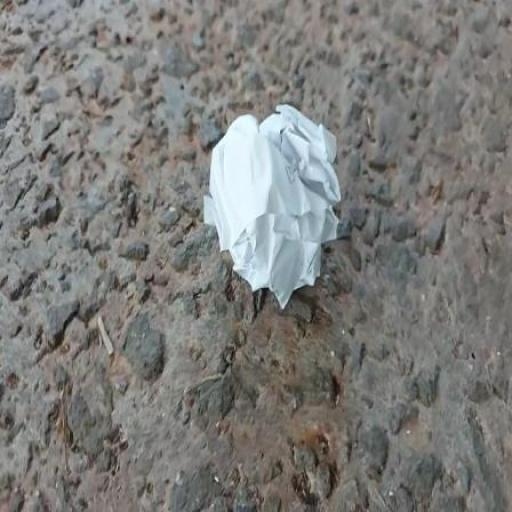paper: (153, 73, 441, 340)
